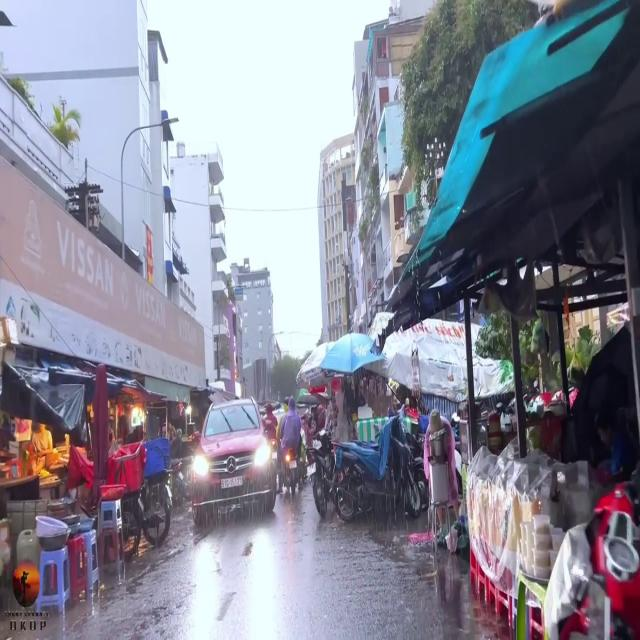bien_trang: (217, 478, 243, 488)
